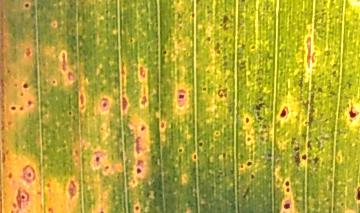tarspot: (344, 106, 358, 122), (277, 106, 288, 121), (352, 184, 360, 203), (133, 165, 145, 177), (99, 100, 111, 112), (159, 47, 171, 58), (280, 201, 293, 211), (132, 202, 143, 213), (21, 1, 33, 11), (201, 85, 211, 97), (139, 123, 148, 136), (176, 91, 186, 102), (9, 103, 18, 115), (299, 152, 308, 164), (196, 138, 205, 150), (25, 97, 34, 109), (245, 157, 253, 170), (93, 154, 102, 165), (282, 186, 293, 195), (175, 144, 184, 155), (248, 172, 257, 182), (244, 134, 253, 144), (191, 151, 199, 162), (21, 81, 30, 90), (66, 109, 75, 118), (19, 193, 28, 202), (26, 170, 33, 181), (283, 179, 292, 187), (18, 104, 26, 113), (245, 115, 250, 127)
